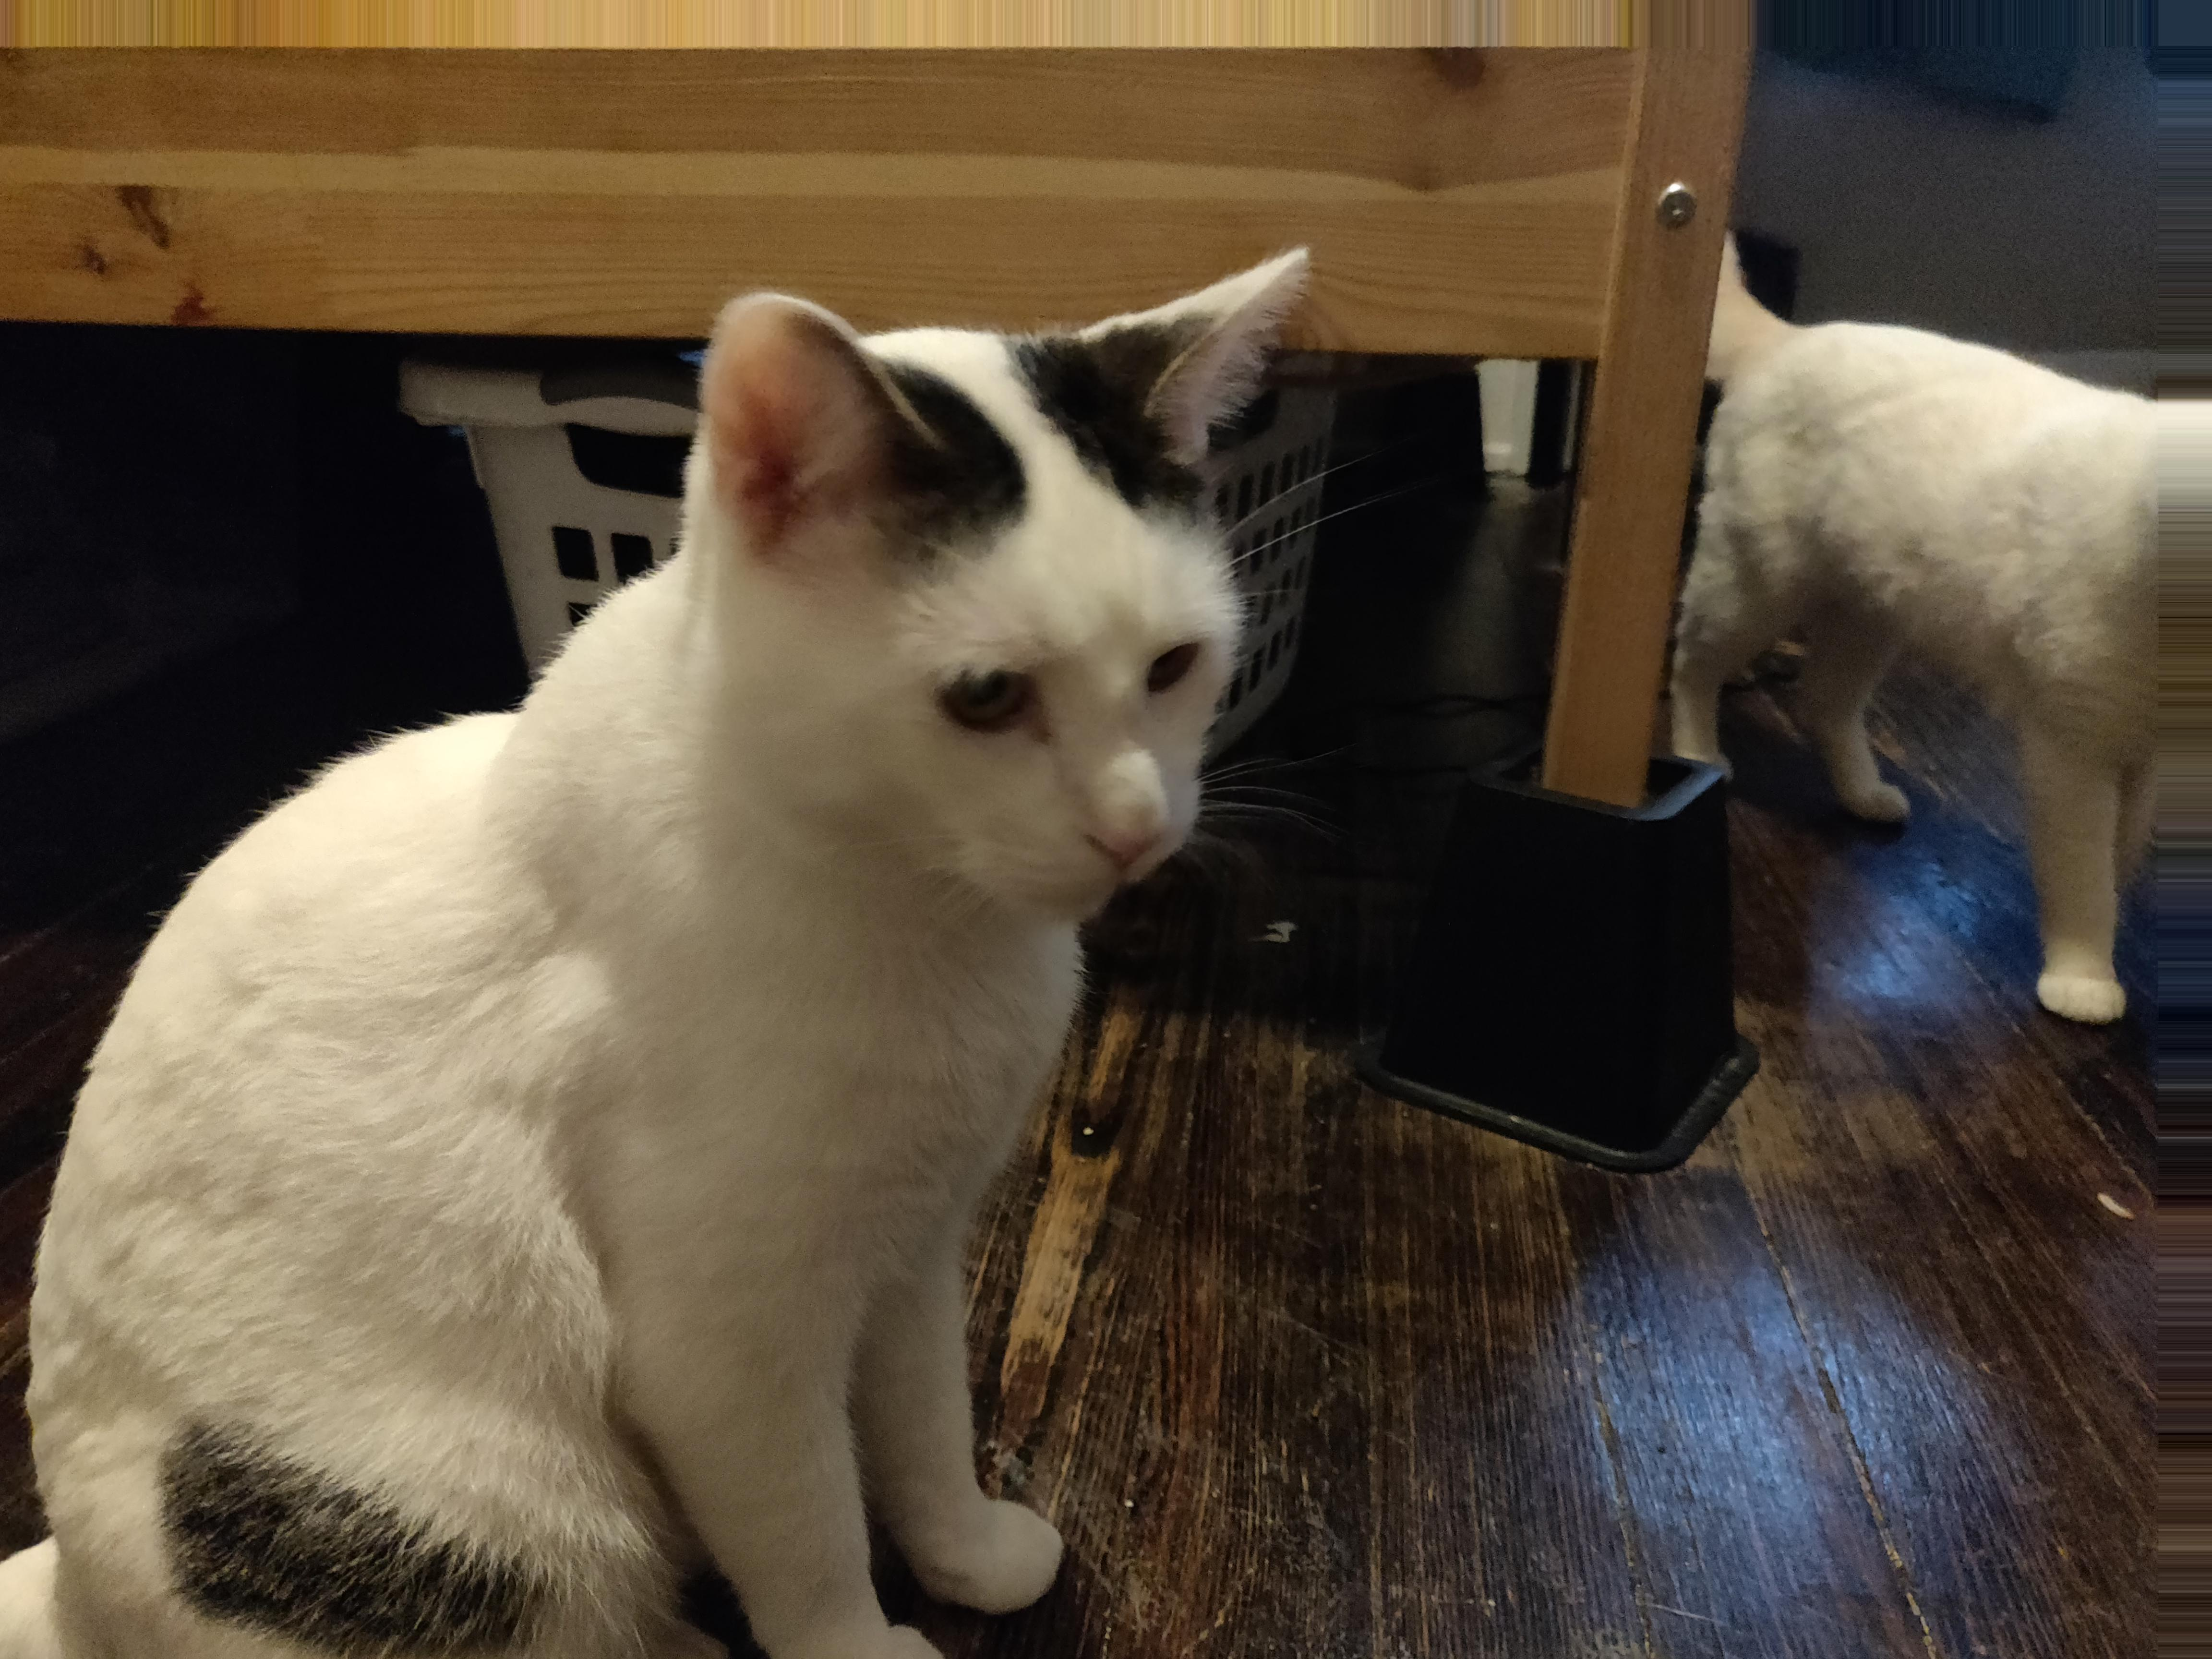cat: (0, 247, 1304, 1659), (1723, 238, 2212, 1028)
